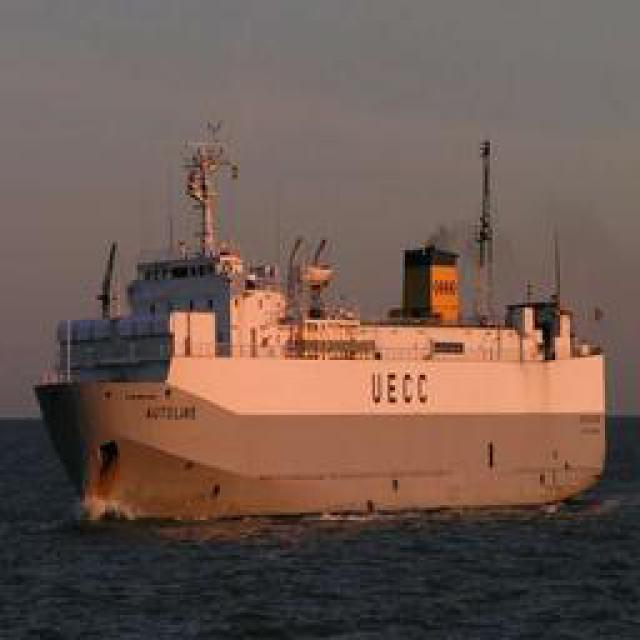Ship: (28, 184, 612, 527)
